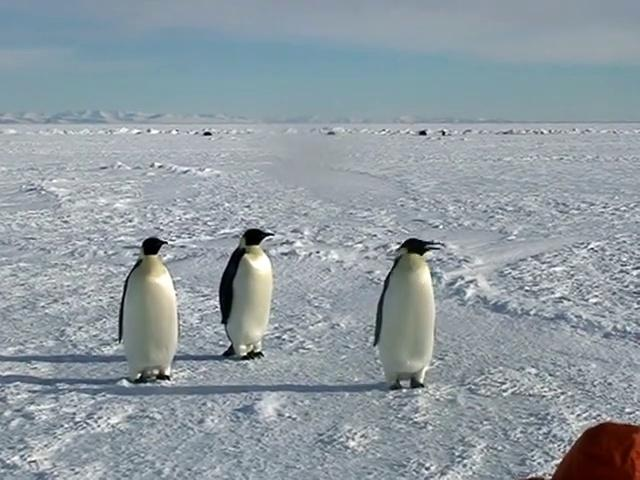animal: (375, 239, 444, 390)
